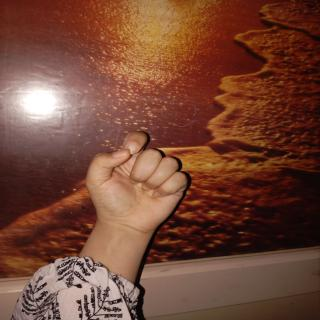FAA: (79, 125, 202, 241)
